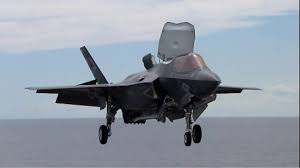fighter: (24, 41, 264, 147)
